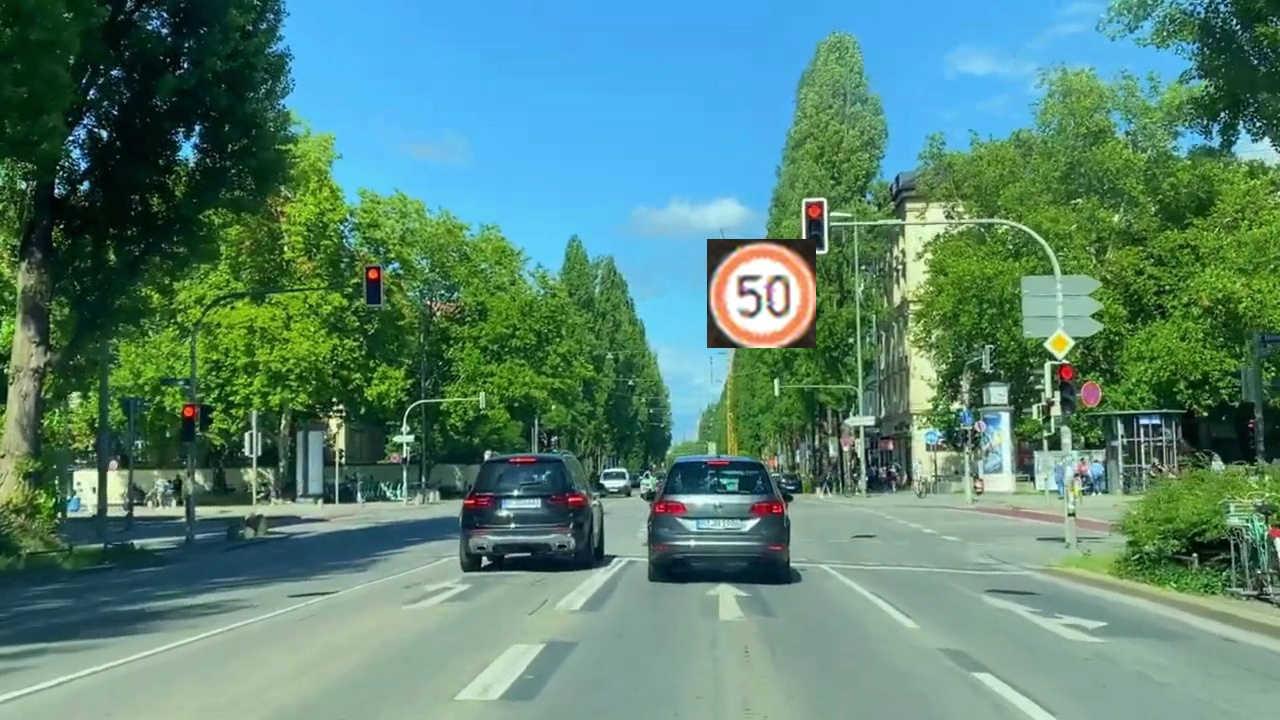Speed 50: (707, 239, 816, 348)
